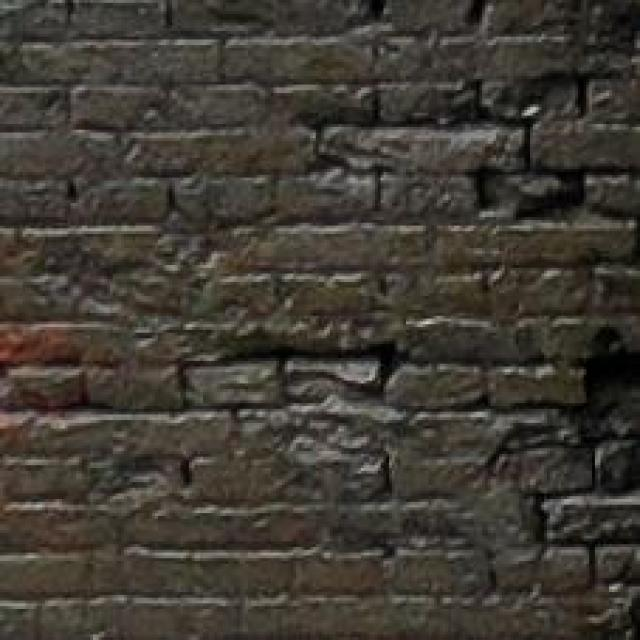Crack: (197, 0, 640, 640)
